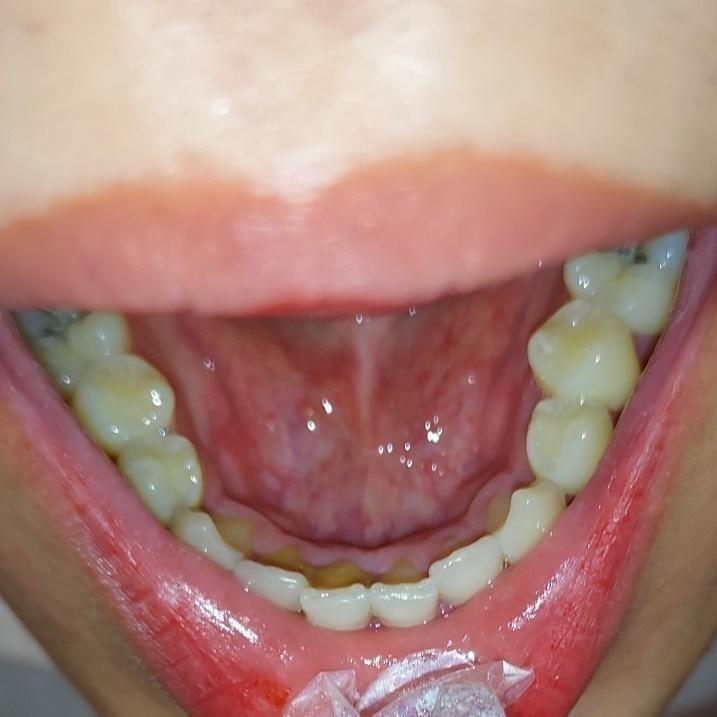Crowding: (229, 558, 374, 630)
